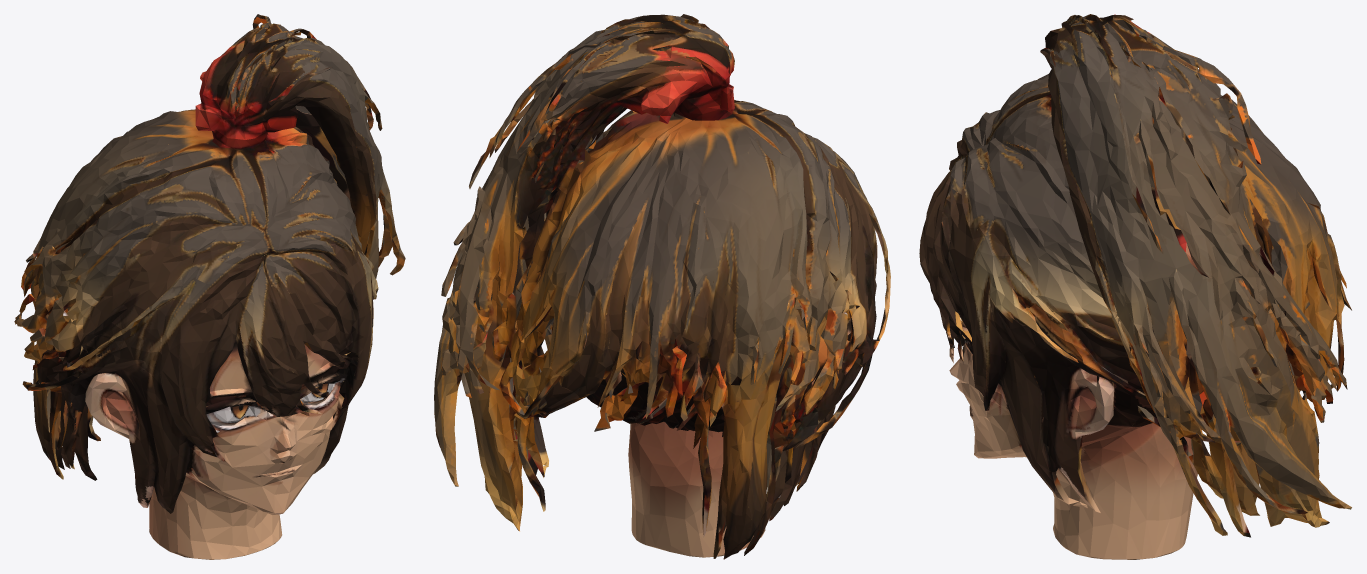
The model's file is side_kafu_nosword_repaired_atlas.glb.
3 views of the same model, side by side, from view 1: azimuth 30°, elevation 25°; view 2: azimuth 150°, elevation 25°; view 3: azimuth 270°, elevation 25° (orthographic). The views are drawn at different scales.
Parts seen in each view (by area): view 1: temp_mesh.ply; view 2: temp_mesh.ply; view 3: temp_mesh.ply.
Part boxes in pixels (x1,y1,x2,y2): temp_mesh.ply: [14, 14, 405, 559]; temp_mesh.ply: [434, 14, 890, 559]; temp_mesh.ply: [919, 14, 1351, 559].
Size of the model in its own units: 1.57 by 1.97 by 1.45.
1 material, 1 textured.
